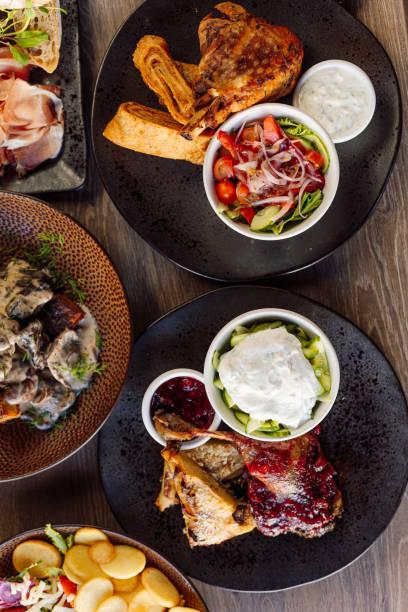Braised Crucian Carp: (104, 282, 408, 595), (95, 0, 400, 286), (0, 188, 127, 496)
